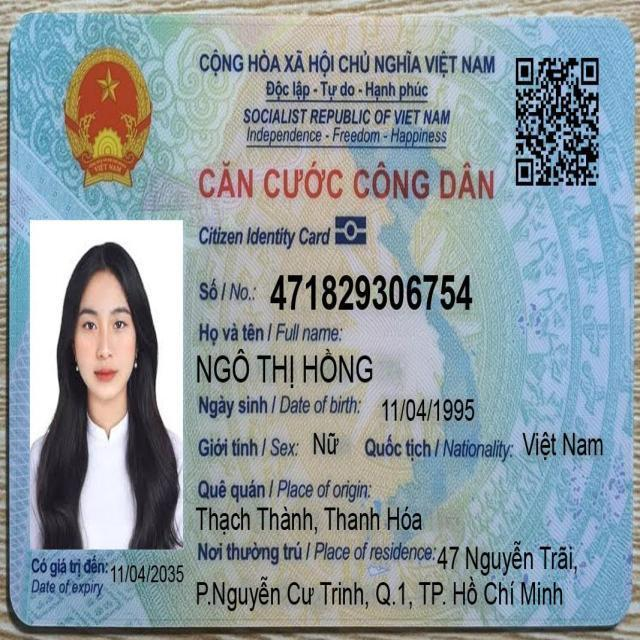current_place: (191, 572, 567, 614), (434, 538, 581, 581)
dob: (379, 391, 478, 430)
expire_date: (108, 559, 187, 588)
gender: (309, 425, 343, 464)
id: (266, 267, 477, 320)
name: (192, 344, 377, 392)
nationality: (518, 425, 607, 467)
origin_place: (192, 499, 426, 539)
